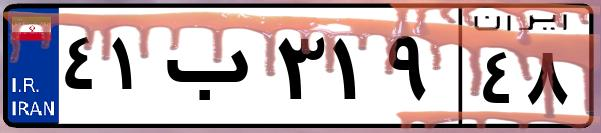1: (330, 28, 385, 110), (110, 28, 158, 98)
3: (270, 28, 330, 110)
4: (57, 26, 110, 100), (475, 38, 525, 113)
8: (525, 38, 570, 115)
9: (385, 28, 445, 110)
ب: (158, 20, 270, 120)
